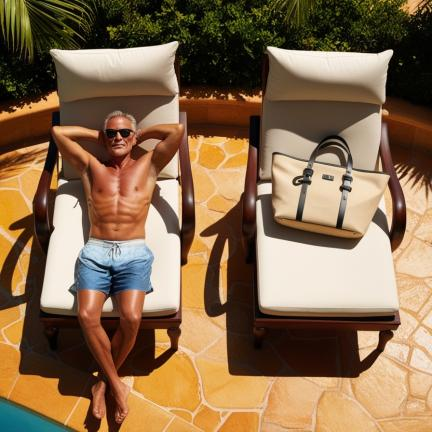guest on chair: (34, 42, 195, 423)
occupied chair: (242, 47, 406, 351)
